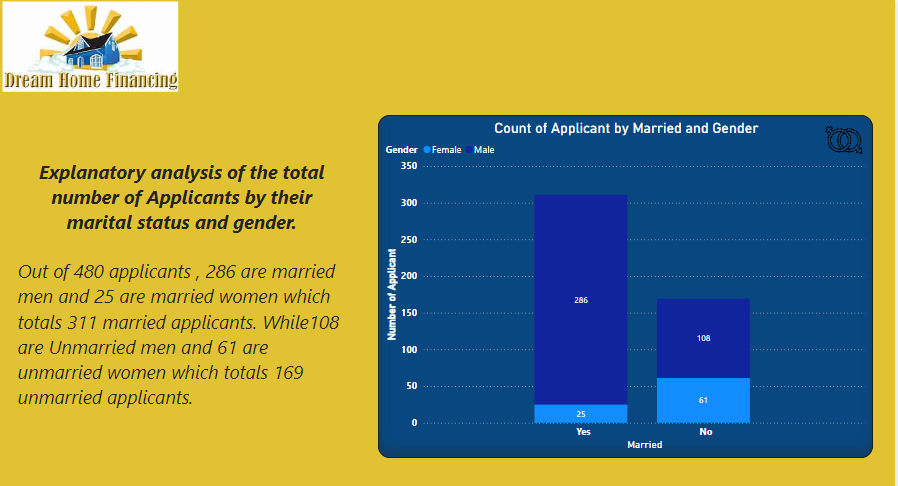

What the dashboard file says about the page in this screenshot:
{"tool":"powerbi","page":{"name":"page 5 ","canvas":[1280,720],"ordinal":5},"visuals":[{"type":"image","box":[0,0,261.4,138.6],"z":0},{"type":"textbox","box":[21.4,224.3,478.6,370],"z":1000},{"type":"columnChart","title":"Count of Applicant by Married and Gender","fields":{"Category":["loan-train.Married"],"Y":["CountNonNull(loan-train.Loan_ID)"],"Series":["loan-train.Gender"]},"box":[541.4,167.1,707.1,490],"z":2000},{"type":"image","box":[1164.3,167.1,84.3,71.4],"z":2001}]}

Visuals, with their boxes on the page's 1280x720 design canvas (x1, y1, x2, y2). These are canvas units, not pixel positions in the 898x486 screenshot, which may show the page scaled, cropped or inside an application window:
image: detection(0, 0, 261, 139)
textbox: detection(21, 224, 500, 594)
"Count of Applicant by Married and Gender" columnChart: detection(541, 167, 1248, 657)
image: detection(1164, 167, 1249, 238)
